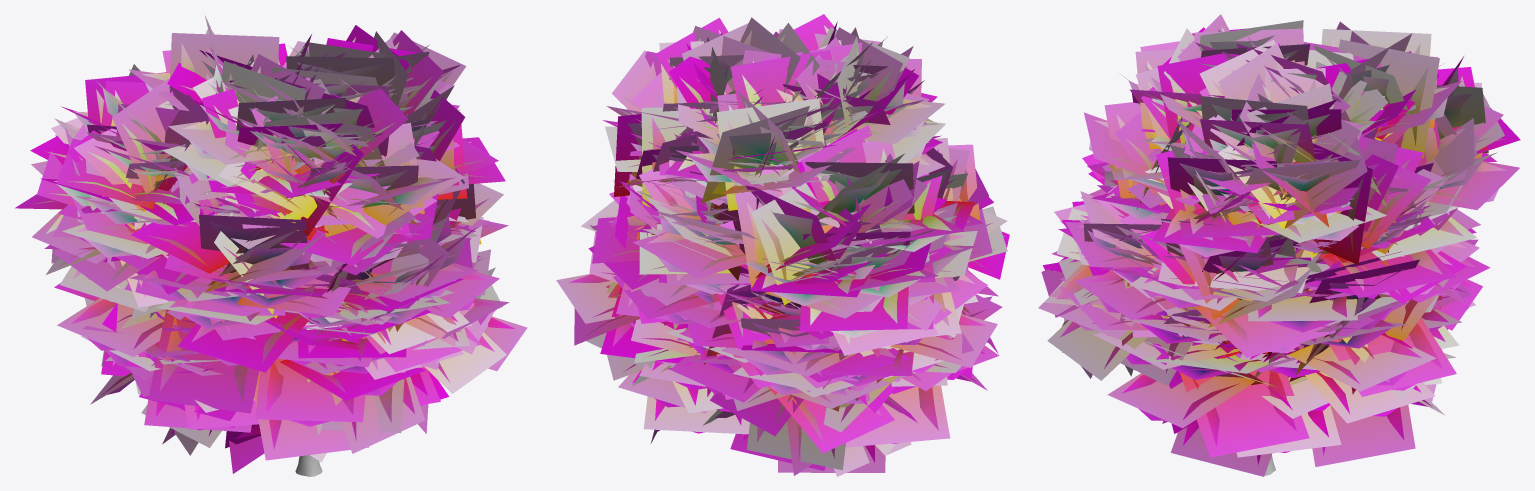
The model's file is oak_01_1.fbx.
The picture shows the model from 3 angles, left to right: view 1: azimuth 30°, elevation 25°; view 2: azimuth 150°, elevation 25°; view 3: azimuth 270°, elevation 25°; orthographic projection.
Parts seen in each view (by area): view 1: oak_leaves_01_1_shadow, oak_leaves_01_1_lod_0; view 2: oak_leaves_01_1_shadow, oak_leaves_01_1_lod_0; view 3: oak_leaves_01_1_shadow, oak_leaves_01_1_lod_0.
Boxes of the visible parts, x1,y1,x2,y2 form: oak_leaves_01_1_shadow: [15, 15, 527, 473]; oak_leaves_01_1_lod_0: [31, 27, 514, 449]; oak_leaves_01_1_shadow: [556, 14, 1009, 476]; oak_leaves_01_1_lod_0: [569, 25, 994, 463]; oak_leaves_01_1_shadow: [1038, 14, 1520, 476]; oak_leaves_01_1_lod_0: [1052, 27, 1506, 464].
Size of what is drawn, in the model's own units: 15.99 by 15.46 by 16.11.
